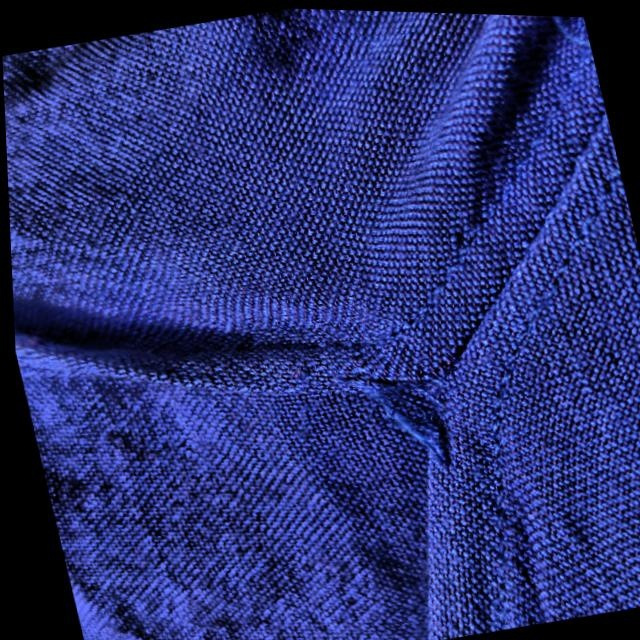Stitch: (292, 310, 514, 540)
